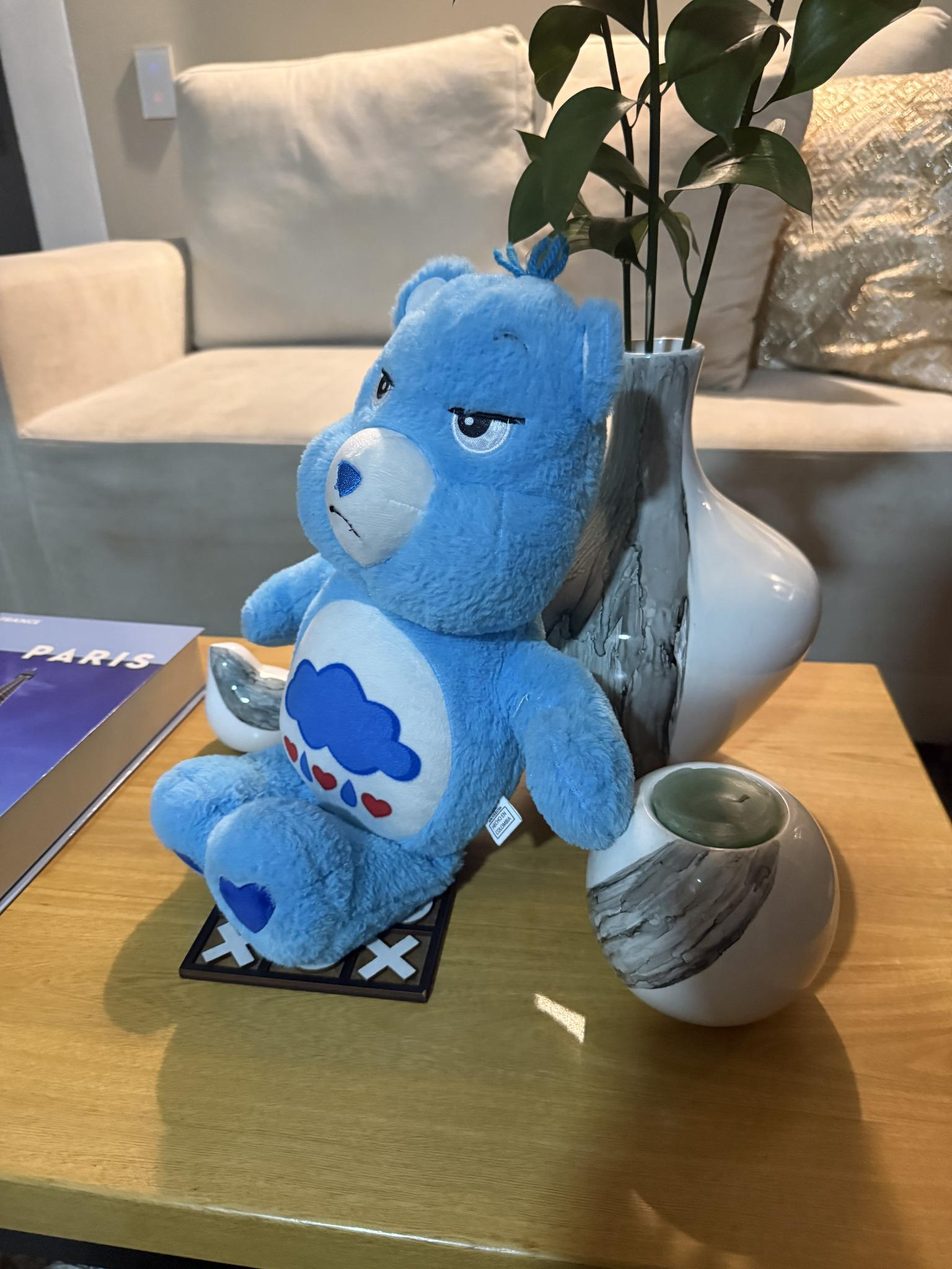peluche_Juan Jose: (138, 251, 642, 962)
